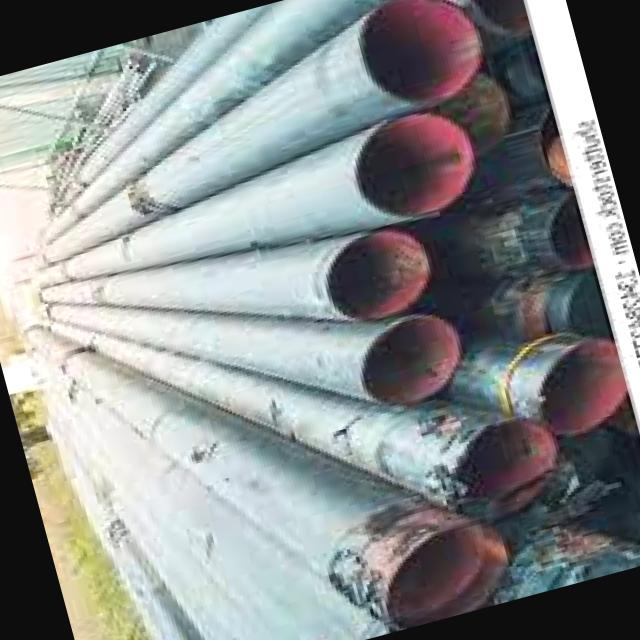gas: (68, 353, 508, 630), (45, 0, 481, 256), (90, 333, 557, 516), (44, 114, 474, 282), (82, 0, 382, 212), (51, 306, 461, 401), (42, 228, 430, 319)
